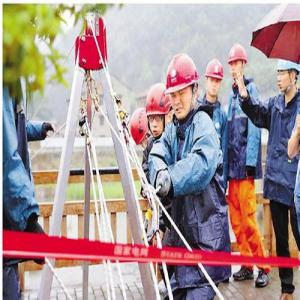blue: (277, 59, 300, 96)
red: (166, 51, 198, 122), (147, 86, 172, 139), (131, 107, 151, 153), (205, 59, 225, 99), (230, 45, 247, 82)
